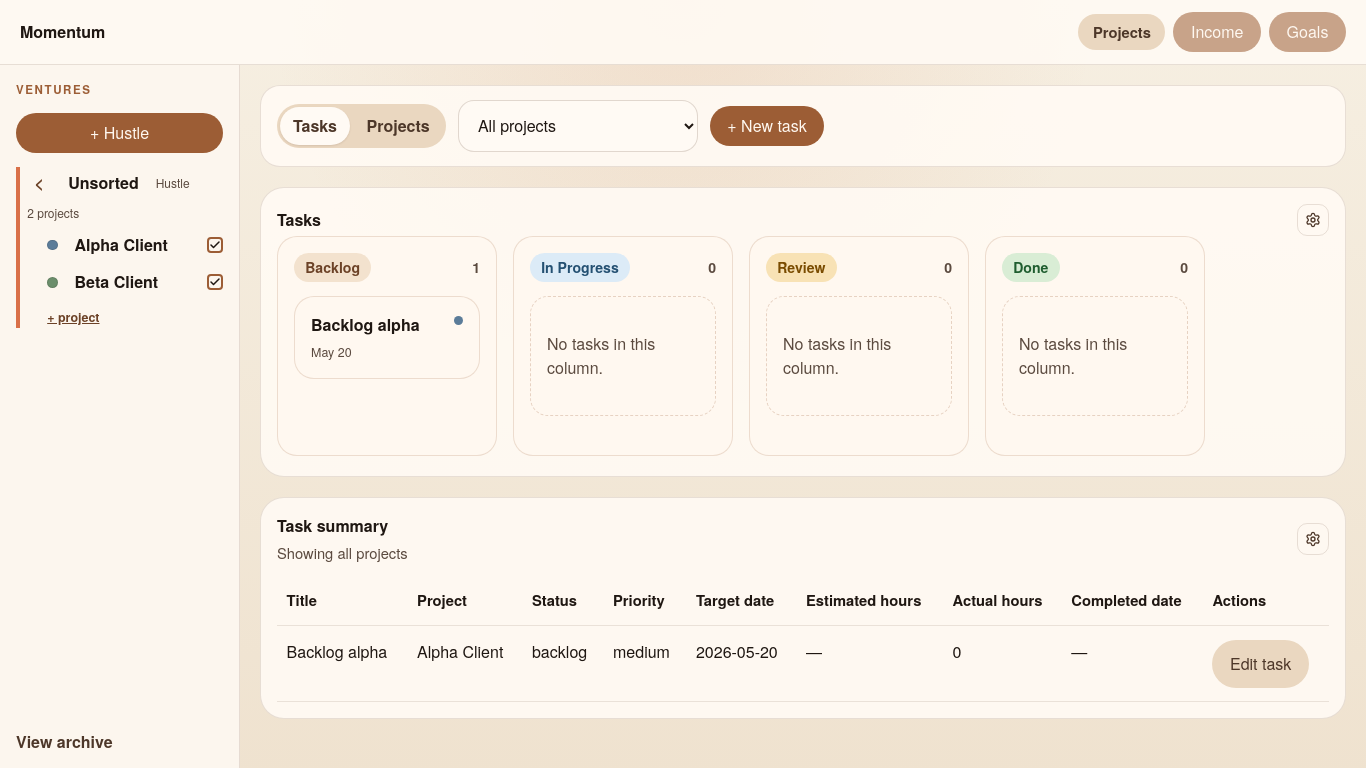
Ticket 1b-6 owner sign-off polish › checkbox pattern (site-wide) › uses transparent backgrounds, Lucide checks, and darker selected outlines in sidebar and board options
Click the checkbox named "Alpha Client" at {"x": 215, "y": 245}, box top-left (207, 237), bottom-right (223, 253)
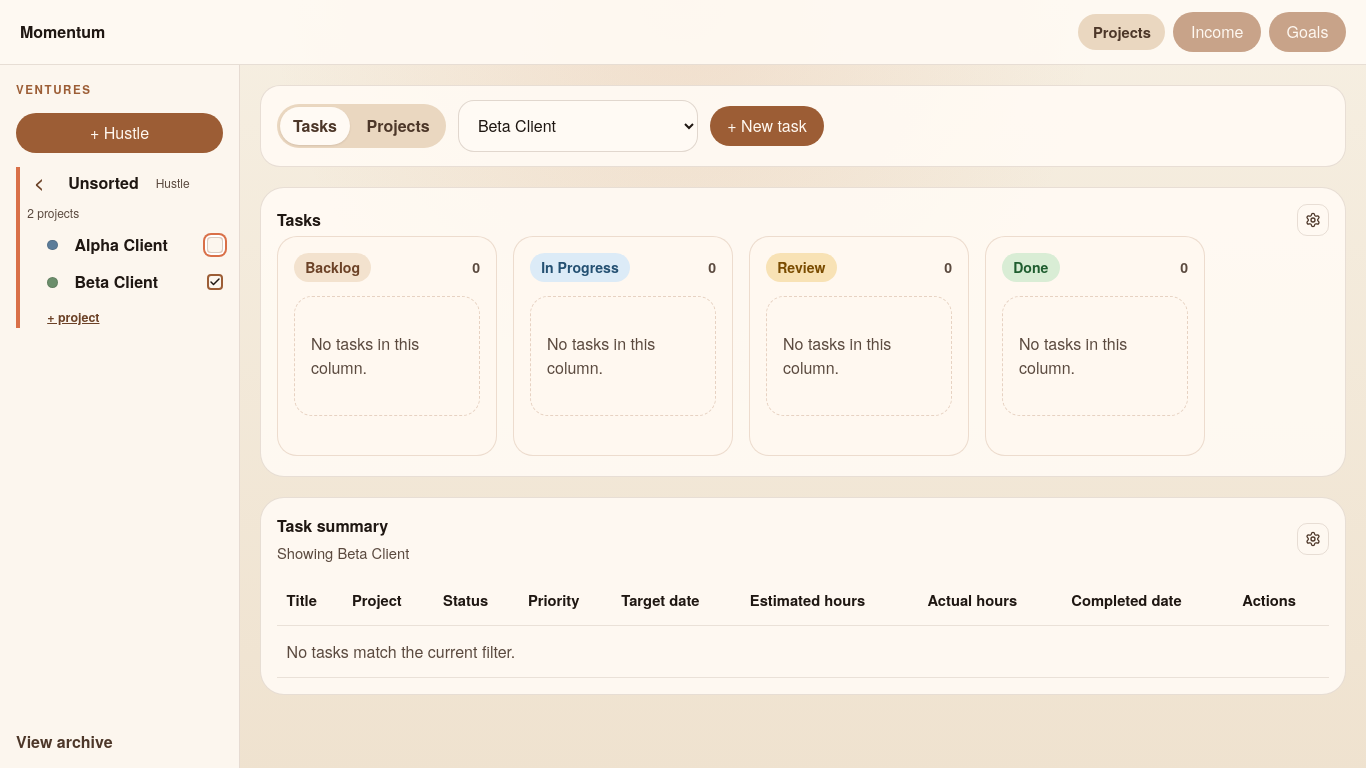
Click the button named "board options" at {"x": 1313, "y": 220}, box top-left (1297, 204), bottom-right (1329, 236)
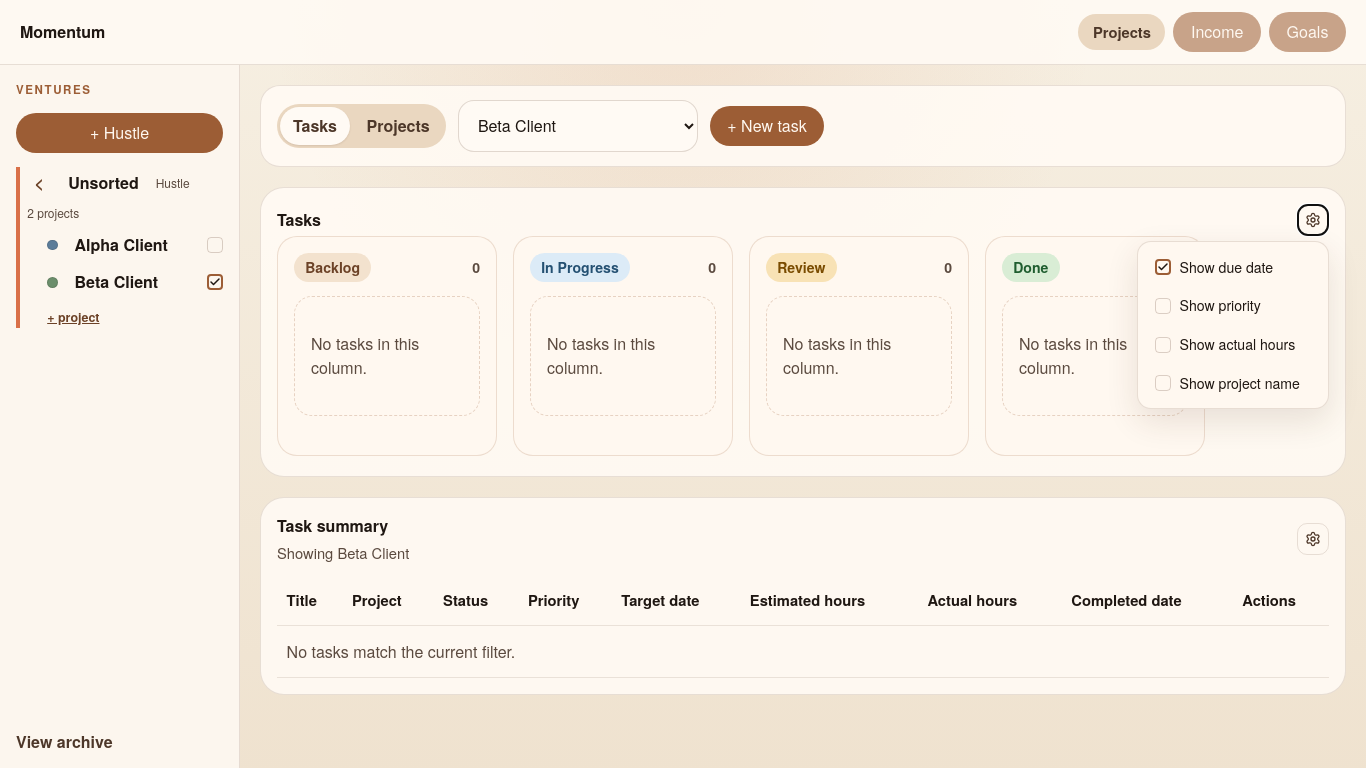
Click the menu item "Show priority" at {"x": 1233, "y": 306}, box top-left (1144, 287), bottom-right (1322, 325)
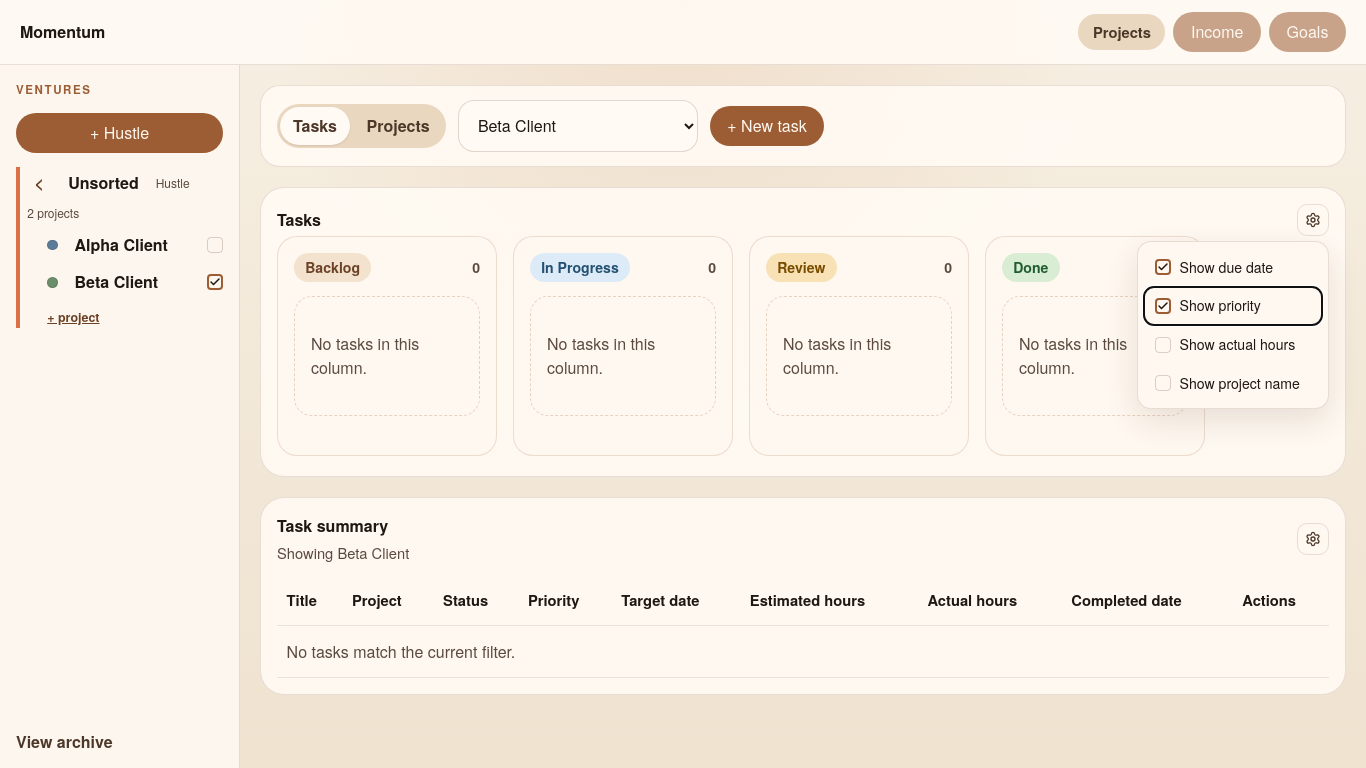
Result: the 4th icon is shown at top-left (1157, 300), bottom-right (1169, 312)
